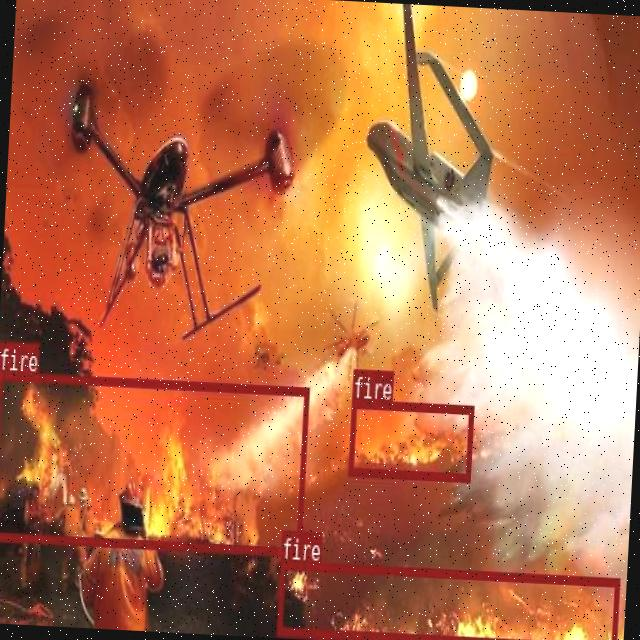fire: (0, 369, 309, 554), (276, 560, 619, 640), (348, 399, 473, 481)
